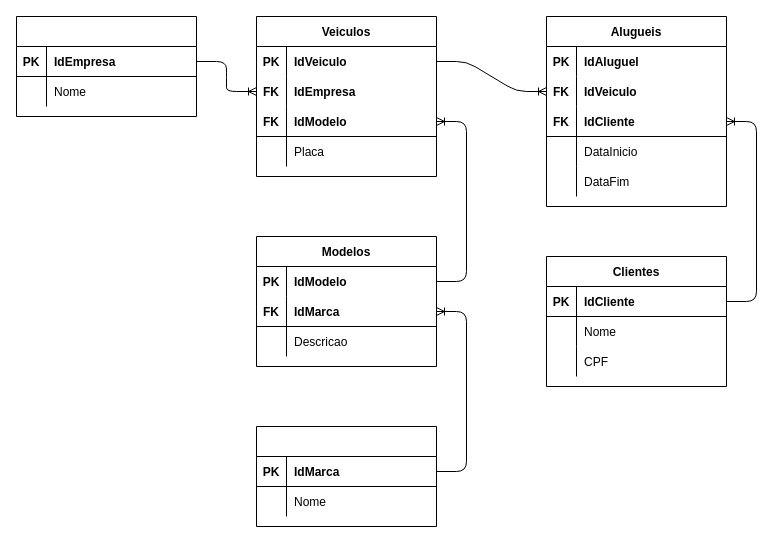
Some shapes in this 773 by 543 pixel diagram are drawn without their labels. The box of each missing label's shape, as (x1, y1, x2, y2) in pixels:
Empresas: (16, 16, 196, 116)
Marcas: (256, 426, 436, 526)
